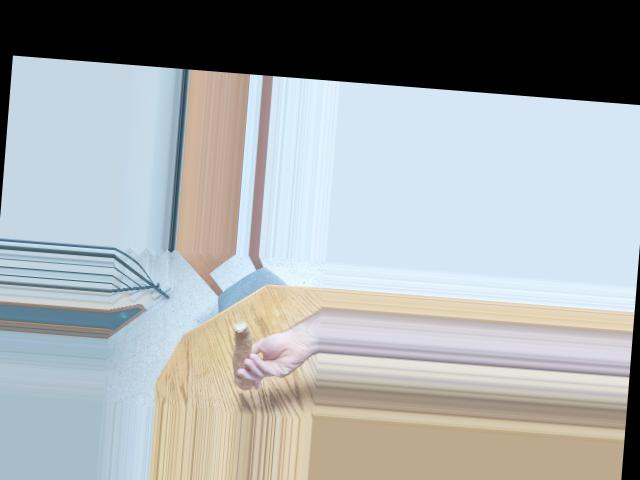sweet_potato: (227, 319, 262, 389)
